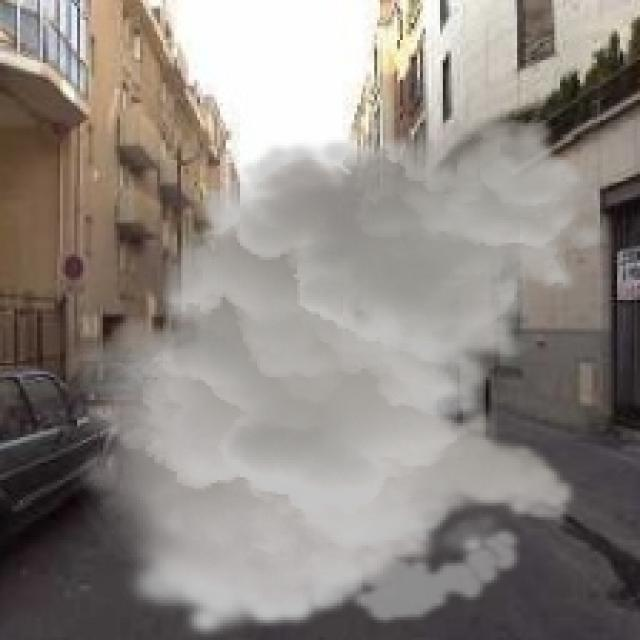smoke: (57, 112, 614, 637)
